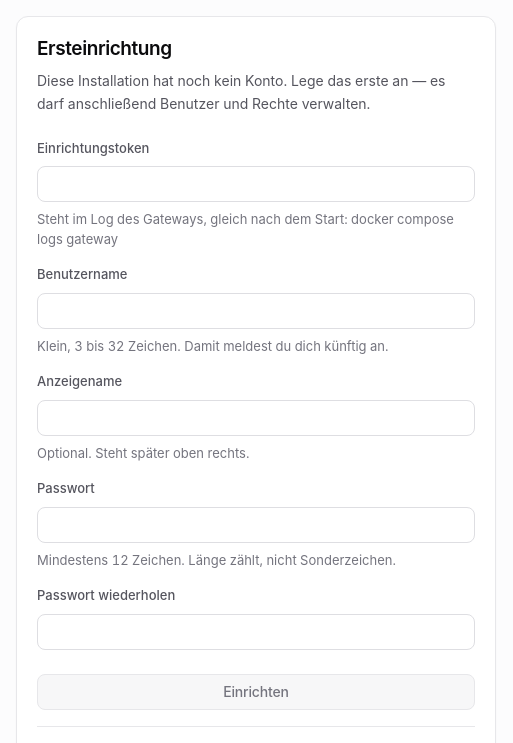
Einrichtungsmaske › lässt Token und Name stehen und leert nur die Passwörter
Type "xYz-ein-langes-einrichtungstoken-aus-dem-log" into the field labelled "Einrichtungstoken" at coordinates (256, 184), box [37,166,475,202]
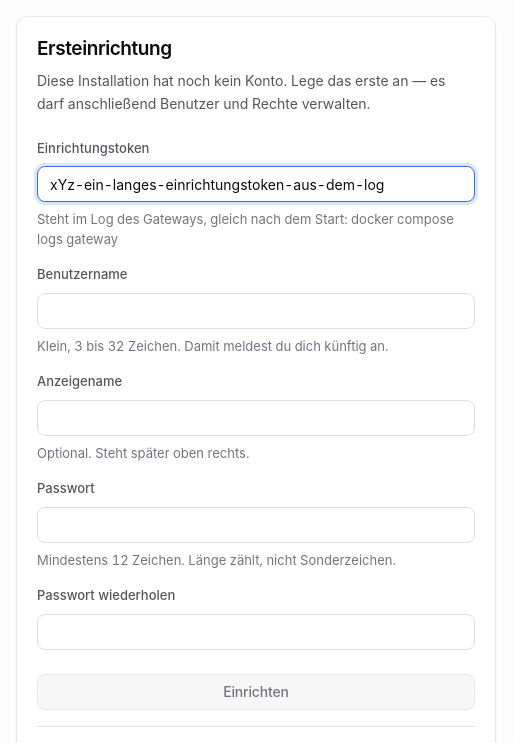
Type "aaron" into the field labelled "Benutzername" at coordinates (256, 311), box [37,293,475,329]
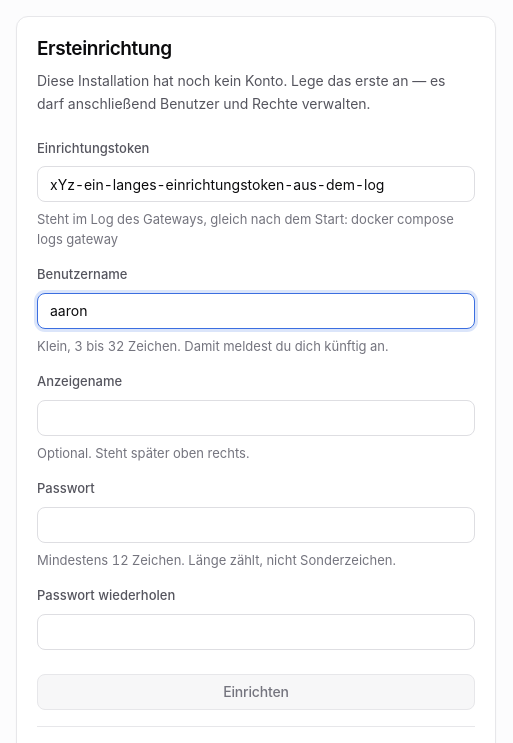
Type "korrekt-pferd-batterie" into the password field labelled "Passwort" at coordinates (256, 525), box [37,507,475,543]
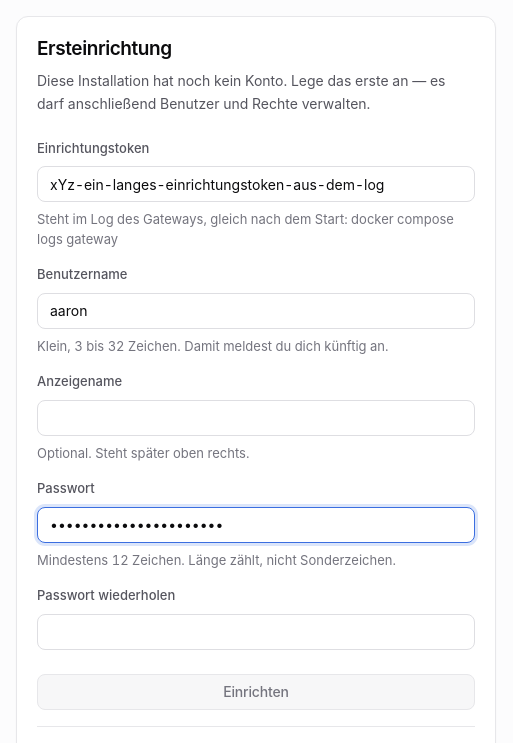
Type "korrekt-pferd-batterie" into the password field labelled "Passwort wiederholen" at coordinates (256, 632), box [37,614,475,650]
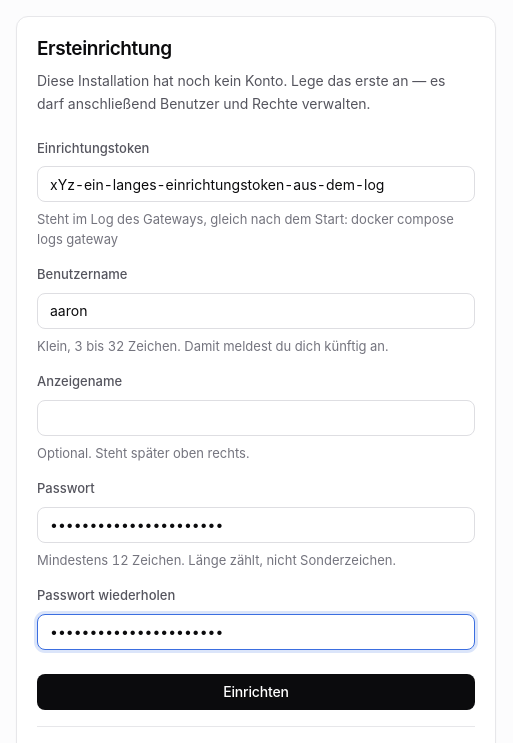
Click the button "Einrichten" at coordinates (256, 692), box [37,674,475,710]
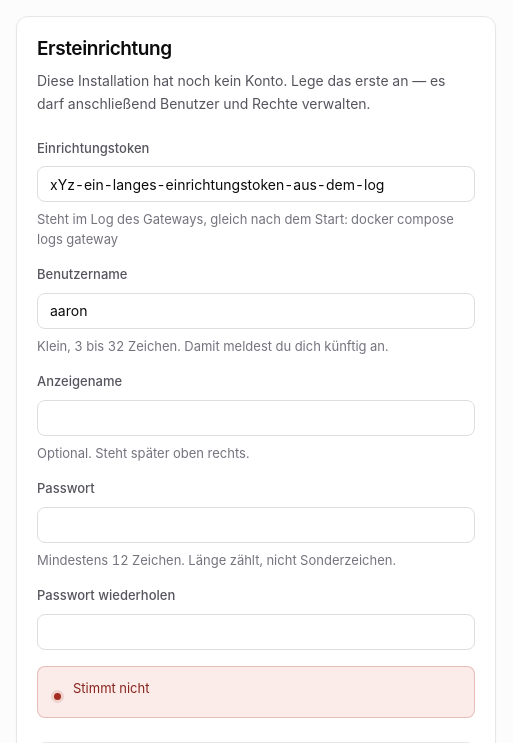
Expected: the message "Stimmt nicht" is shown, [37,666,475,718]
Expected: the password field labelled "Passwort" is empty, [37,507,475,543]
